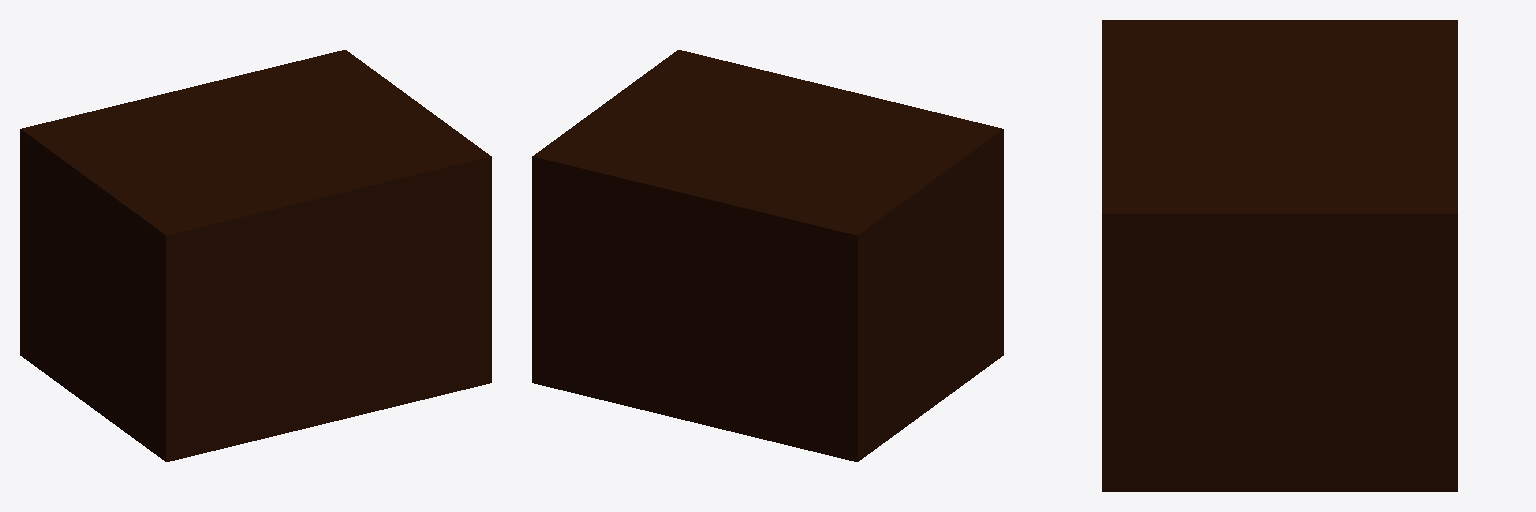
The robot description file, URDF, robot "random_box":
<?xml version='1.0' encoding='UTF-8'?>
<robot name="random_box">
  <link name="box">

    <inertial>
      <mass value="0.3"/>
      <origin xyz="0 0 0" rpy="0 0 0"/>
      <inertia ixx="0.1" ixy="0.1" ixz="0.1" iyy="0.1" iyz="0.1" izz="0.1"/>
    </inertial>

    <visual>
      <geometry>
        <box size="0.9 0.7 0.6"/>
      </geometry>
      <material name="color">
        <color rgba="0.2 0.1 0.05 1"/>
      </material>
    </visual>
    <collision>
      <geometry>
        <box size="0.9 0.7 0.6"/>
      </geometry>

      <surface>
        <friction>
          <ode>
            <mu>100000000.0</mu>
            <mu2>100000000.0</mu2>
          </ode>
        </friction>
        <contact>
          <ode>
            <min_depth>0.003</min_depth>
          </ode>
        </contact>
      </surface>

    </collision>

  </link>
</robot>

--- What the picture shows (computed from the rendered views, not written in the file) ---
Views: 3 orthographic renders of the robot side by side, from view 1: azimuth 30°, elevation 25°; view 2: azimuth 150°, elevation 25°; view 3: azimuth 270°, elevation 25°.
Model random_box with 1 links and 0 joints (none), rooted at box, posed every joint at zero.
Links seen in each view (by area): view 1: box; view 2: box; view 3: box.
Link boxes in pixels (bbox=[...]): box: bbox=[20, 50, 491, 461]; box: bbox=[532, 50, 1003, 461]; box: bbox=[1102, 20, 1457, 491].
Bounding box of the posed robot: 0.9 × 0.7 × 0.6 m (x, y, z).
Geometry: primitives only (box / cylinder / sphere), no mesh files.